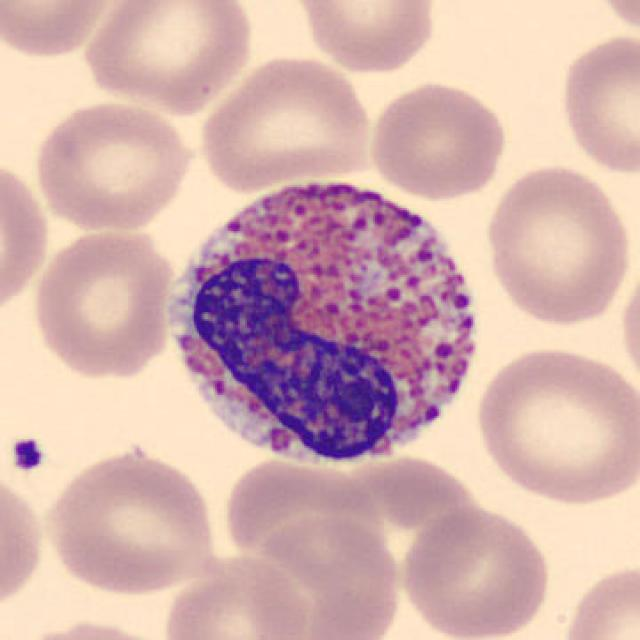Eosinophil: (151, 157, 498, 483)
Platelets: (5, 432, 48, 476)
RBC: (39, 442, 222, 600), (469, 340, 636, 508), (480, 159, 635, 328), (196, 51, 375, 194), (28, 224, 178, 381), (322, 462, 493, 596), (31, 97, 198, 233), (394, 500, 554, 640), (78, 0, 259, 116), (252, 509, 404, 640), (218, 462, 382, 580), (366, 78, 510, 201), (158, 550, 313, 640), (555, 30, 638, 178), (288, 0, 443, 76), (0, 151, 53, 322), (0, 464, 48, 620), (0, 0, 117, 61), (556, 559, 638, 640), (12, 615, 180, 640), (615, 252, 640, 395), (588, 0, 640, 41)
